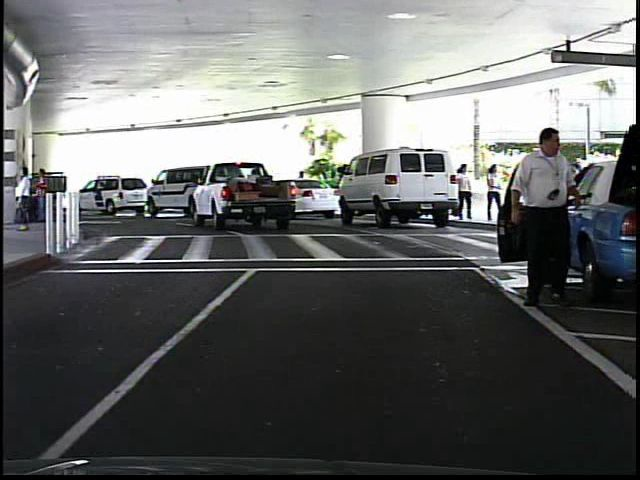person: (505, 120, 580, 313), (453, 159, 472, 226), (483, 162, 503, 224), (294, 167, 311, 213)
